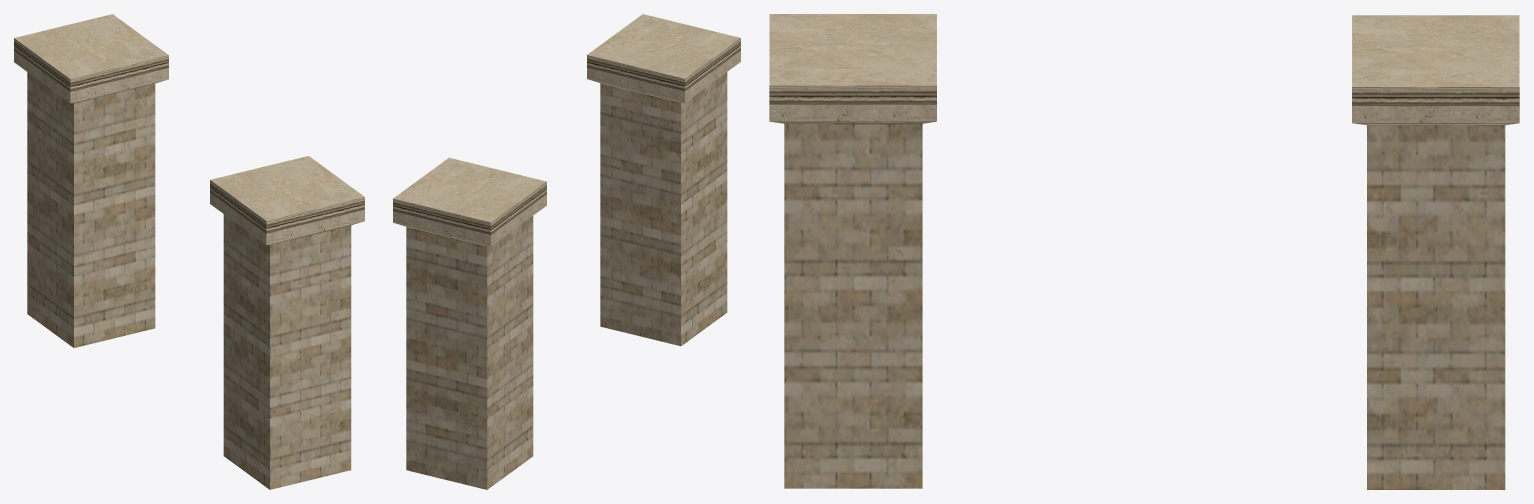
File: thm_nboo_imprv_spill_gate_cap_s01_l1.fbx
3 views of the same model, side by side, from view 1: azimuth 30°, elevation 25°; view 2: azimuth 150°, elevation 25°; view 3: azimuth 270°, elevation 25° (orthographic). The views are drawn at different scales.
Visible parts, largest first — view 1: mesh_node; view 2: mesh_node; view 3: mesh_node.
Part boxes in pixels (x1,y1,x2,y2): mesh_node: [14, 14, 364, 489]; mesh_node: [393, 14, 740, 489]; mesh_node: [769, 14, 1519, 489].
Bounding box in the file's own units: 1.8 × 4.79 × 7.93.
